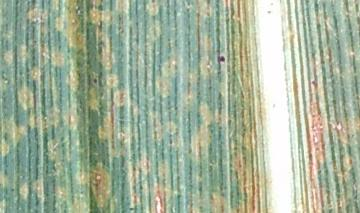tarspot: (354, 14, 360, 39), (342, 1, 350, 14), (96, 44, 104, 55), (92, 75, 99, 87), (217, 54, 225, 64), (309, 78, 318, 86), (354, 3, 360, 14), (270, 101, 277, 110), (265, 8, 272, 16), (267, 1, 275, 7), (204, 1, 212, 7), (347, 157, 353, 164)
